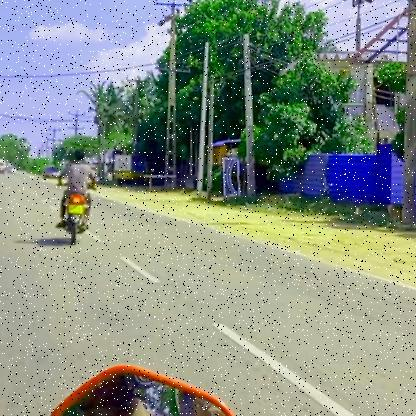motorcycle: (51, 190, 97, 247)
